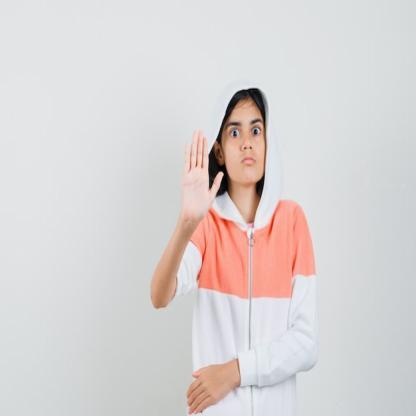stop: (180, 127, 224, 228)
